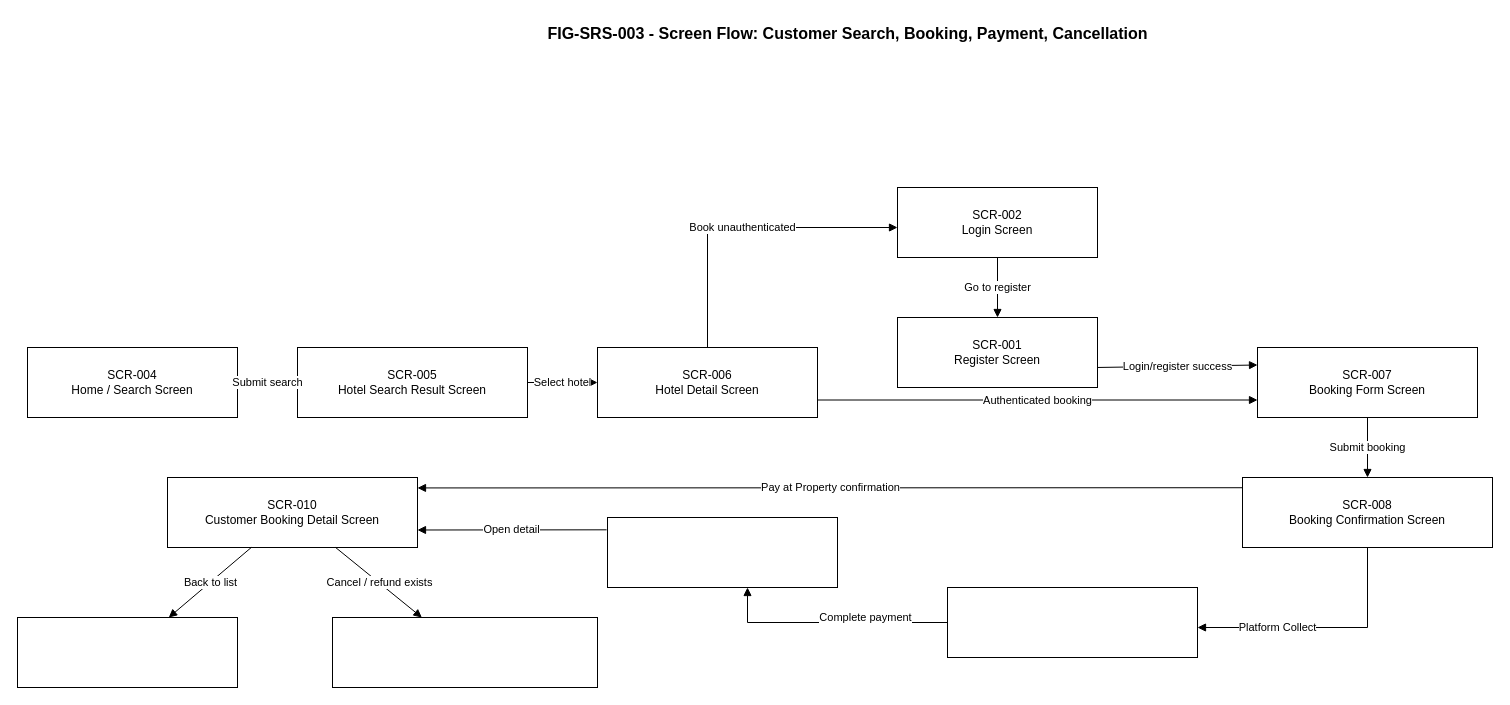
Image size: 1510x705. Some labels were removed from this diagram. Here are the shapes that lost their labels. From the top down, the centre of each, then its label:
(722,552): SCR-012 Payment Result Screen
(1072,622): SCR-011 Payment Instruction Screen
(127,652): SCR-009 My Bookings Screen
(465,652): SCR-013 Customer Refund Status Screen
